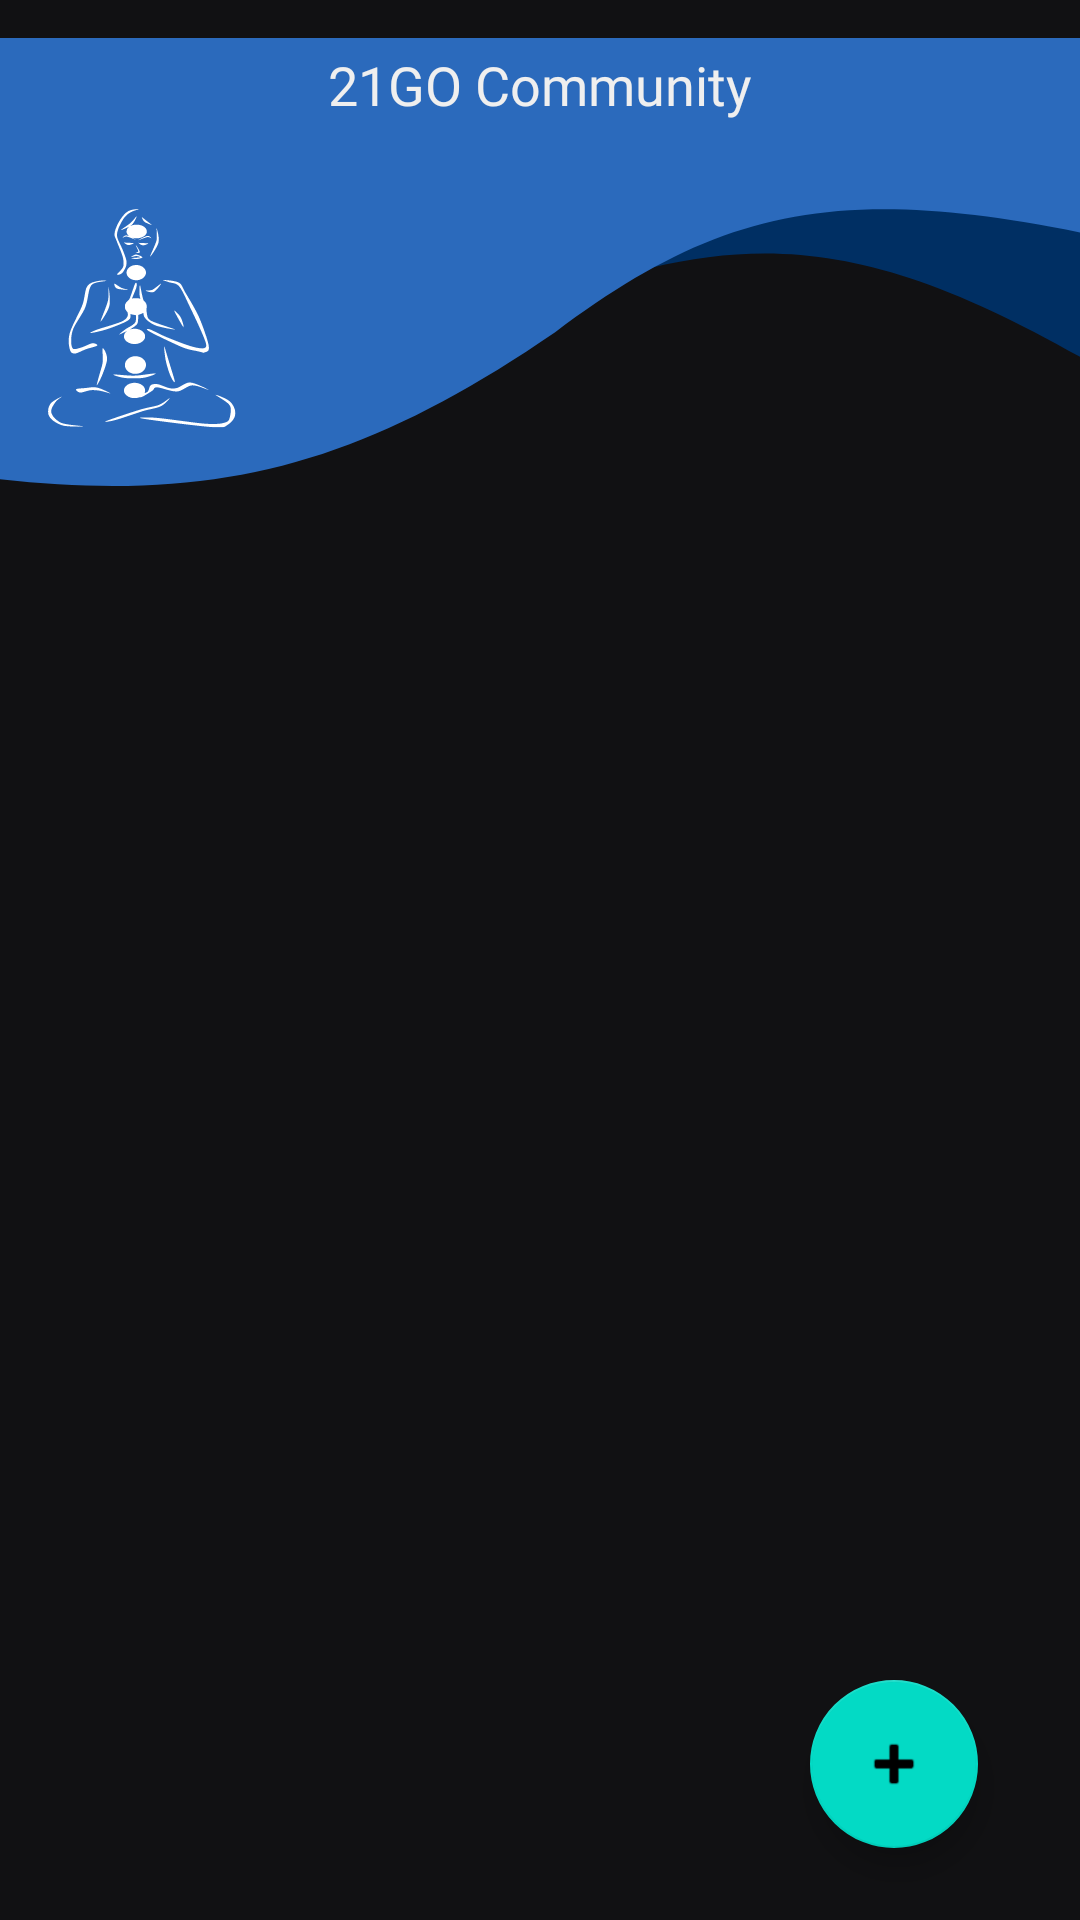

Named icons in this screenshot (1080×1920) and their bounding boxes, (x1, y1, x2, y2):
add: (810, 1680, 978, 1848)
